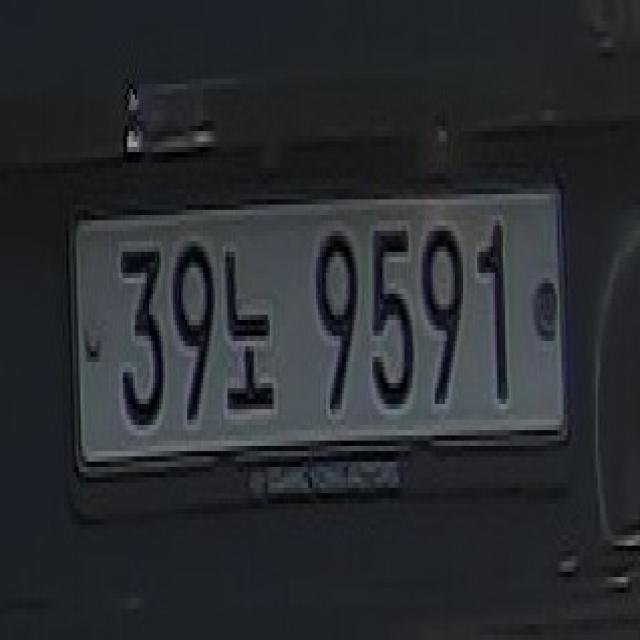1: (473, 215, 511, 409)
3: (115, 236, 167, 435)
5: (366, 215, 417, 415)
9: (419, 215, 465, 415), (312, 220, 358, 414), (171, 236, 215, 430)
license_plate: (72, 178, 568, 472)
no: (219, 236, 280, 430)
